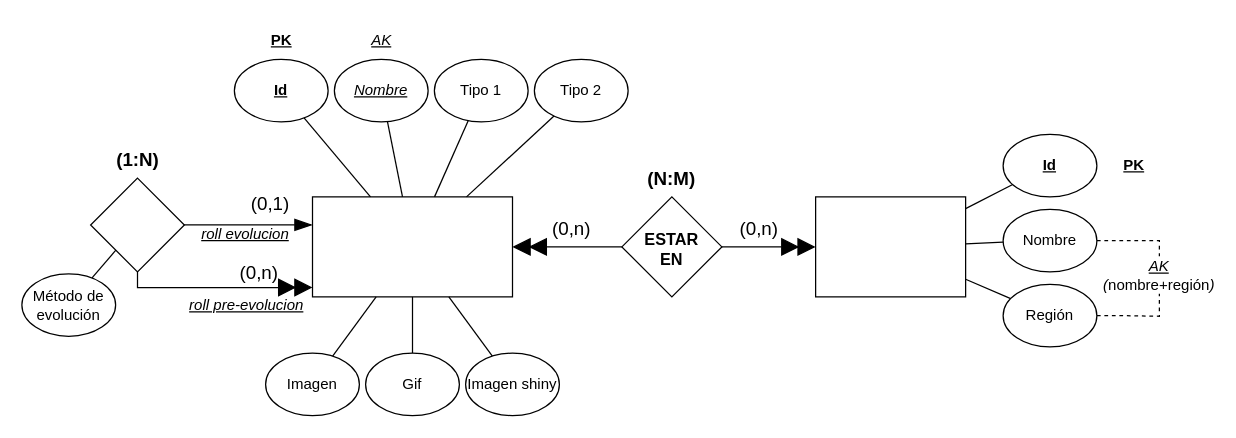
Image size: 1236x438. Some labels were removed from this diagram. The centre of each missing label's shape, as x and y in pixels:
"EVOLUCIONAR DE" belongs at point 136,224.
"POKEMON" belongs at point 411,246.
"RUTA" belongs at point 890,246.
